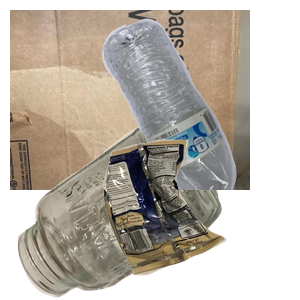cardboard: (10, 10, 250, 190)
glass: (15, 126, 229, 300)
plastic: (100, 16, 300, 196)
trash: (101, 137, 300, 300)
